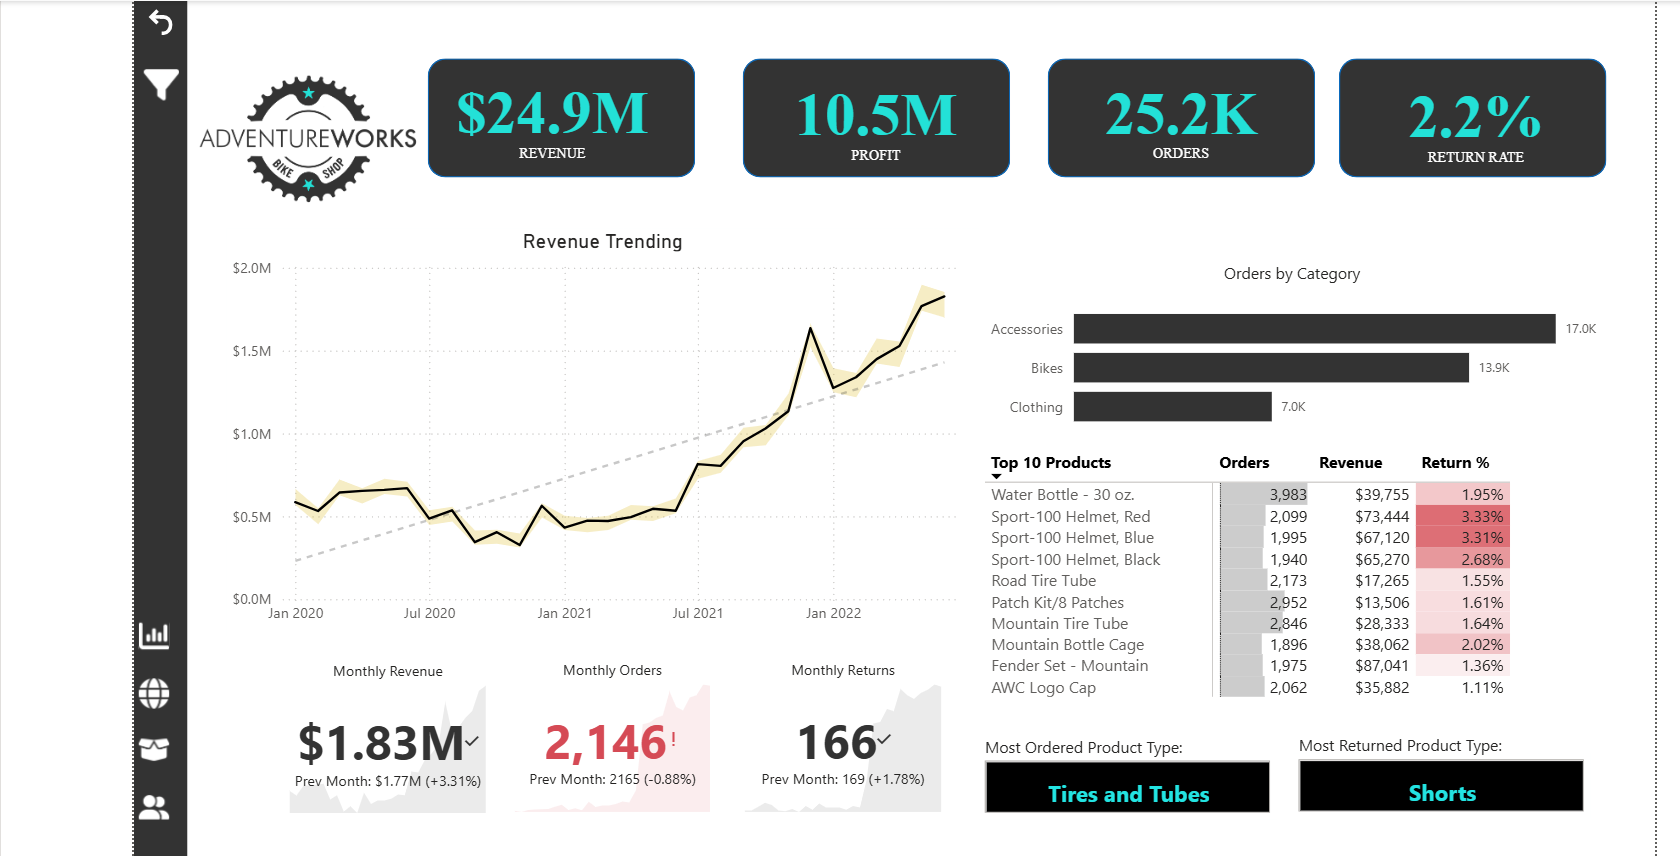

The page's visual inventory and layout, read from the dashboard file:
{"tool":"powerbi","page":{"name":"Exec Dashboard","canvas":[1280,720],"ordinal":0},"visuals":[{"type":"image","title":"AW Logo","box":[30,0,233.3,232.2],"z":0},{"type":"shape","box":[247,48.9,225,100],"z":0,"group":"g1"},{"type":"group","id":"g1","title":"KPI Backgrounds","box":[247,48.9,991.2,100.5],"z":0,"group":"g3"},{"type":"card","fields":{"Values":["Measure Table.Return Rate"]},"box":[1013.3,51.2,231.1,98.9],"z":0,"group":"g2"},{"type":"actionButton","box":[0,517.3,56.8,33.6],"z":0,"group":"g4"},{"type":"shape","title":"Left Nav Background","box":[0,0,45,720],"z":1000},{"type":"group","id":"g2","title":"KPI Values","box":[236.4,45.6,1008,104.4],"z":1000,"group":"g3"},{"type":"card","fields":{"Values":["Measure Table.Total Revenue"]},"box":[236.4,46.8,231.1,100],"z":1000,"group":"g2"},{"type":"shape","box":[512,48.9,225,100],"z":1000,"group":"g1"},{"type":"actionButton","box":[0,565.3,56.8,33.6],"z":1000,"group":"g4"},{"type":"group","id":"g3","title":"KPIs","box":[236.4,45.6,1008,104.4],"z":2000},{"type":"card","fields":{"Values":["Measure Table.Total Profit"]},"box":[508.9,46.7,231.1,103.3],"z":2000,"group":"g2"},{"type":"shape","box":[768.2,48.9,225,100],"z":2000,"group":"g1"},{"type":"actionButton","box":[0,613.3,56.8,33.6],"z":2000,"group":"g4"},{"type":"card","fields":{"Values":["Measure Table.Total Orders"]},"box":[765.5,45.6,231.1,103.3],"z":3000,"group":"g2"},{"type":"shape","box":[1013.2,49.4,225,100],"z":3000,"group":"g1"},{"type":"lineChart","title":"Revenue Trending","fields":{"Category":["Calendar Lookup.Start of Month"],"Y":["Measure Table.Total Revenue"]},"box":[78,191,633,342],"z":3000},{"type":"actionButton","box":[0,661.3,56.8,33.6],"z":3000,"group":"g4"},{"type":"kpi","title":"Monthly Revenue","fields":{"Goal":["Measure Table.Previous Month Revenue"],"Indicator":["Measure Table.Total Revenue"],"TrendLine":["Calendar Lookup.Start of Month"]},"box":[126,555,175,133],"z":4000},{"type":"kpi","title":"Monthly Orders","fields":{"Goal":["Measure Table.Previous Month Orders"],"Indicator":["Measure Table.Total Orders"],"TrendLine":["Calendar Lookup.Start of Month"]},"box":[315.7,554.5,174.2,133.2],"z":5000},{"type":"kpi","title":"Monthly Returns","fields":{"Goal":["Measure Table.Previous Month Returns"],"Indicator":["Measure Table.Total Returns"],"TrendLine":["Calendar Lookup.Start of Month"]},"box":[508.4,554.5,175.3,133.2],"z":6000},{"type":"clusteredBarChart","title":"Orders by Category","fields":{"Category":["Product Categories Lookup.CategoryName"],"Y":["Measure Table.Total Orders"]},"box":[710.8,219.7,526.8,153.5],"z":7000},{"type":"pivotTable","fields":{"Rows":["Product Lookup.ProductName"],"Values":["Measure Table.Total Orders","Measure Table.Total Revenue","Measure Table.Return Rate"]},"box":[710.8,373.2,501.5,226.1],"z":8000},{"type":"cardVisual","fields":{"Data":["Min(Product Subcategories Lookup.SubcategoryName)"]},"box":[711.1,634.3,250.3,54],"z":9000},{"type":"textbox","box":[711.1,613,213.3,41.2],"z":10000},{"type":"cardVisual","fields":{"Data":["Min(Product Subcategories Lookup.SubcategoryName)"]},"box":[974.8,632.9,250.3,54],"z":11000},{"type":"textbox","box":[974.8,611.6,213.3,41.2],"z":12000},{"type":"actionButton","box":[7.4,0,30.5,35.7],"z":13000},{"type":"group","id":"g4","title":"Navigation Buttons","box":[0,517.3,56.8,177.7],"z":14000},{"type":"actionButton","box":[4.2,51.5,37.9,37.9],"z":15000}]}

Visuals, with their boxes on the page's 1280x720 design canvas (x1, y1, x2, y2). These are canvas units, not pixel positions in the 1680x856 screenshot, which may show the page scaled, cropped or inside an application window:
"AW Logo" image: bbox(30, 0, 263, 232)
shape: bbox(247, 49, 472, 149)
"KPI Backgrounds" group: bbox(247, 49, 1238, 149)
card - Measure Table.Return Rate: bbox(1013, 51, 1244, 150)
actionButton: bbox(0, 517, 57, 551)
"Left Nav Background" shape: bbox(0, 0, 45, 720)
"KPI Values" group: bbox(236, 46, 1244, 150)
card - Measure Table.Total Revenue: bbox(236, 47, 468, 147)
shape: bbox(512, 49, 737, 149)
actionButton: bbox(0, 565, 57, 599)
"KPIs" group: bbox(236, 46, 1244, 150)
card - Measure Table.Total Profit: bbox(509, 47, 740, 150)
shape: bbox(768, 49, 993, 149)
actionButton: bbox(0, 613, 57, 647)
card - Measure Table.Total Orders: bbox(766, 46, 997, 149)
shape: bbox(1013, 49, 1238, 149)
"Revenue Trending" lineChart: bbox(78, 191, 711, 533)
actionButton: bbox(0, 661, 57, 695)
"Monthly Revenue" kpi: bbox(126, 555, 301, 688)
"Monthly Orders" kpi: bbox(316, 554, 490, 688)
"Monthly Returns" kpi: bbox(508, 554, 684, 688)
"Orders by Category" clusteredBarChart: bbox(711, 220, 1238, 373)
pivotTable - Product Lookup.ProductName x Measure Table.Total Orders: bbox(711, 373, 1212, 599)
cardVisual - Min(Product Subcategories Lookup.SubcategoryName): bbox(711, 634, 961, 688)
textbox: bbox(711, 613, 924, 654)
cardVisual - Min(Product Subcategories Lookup.SubcategoryName): bbox(975, 633, 1225, 687)
textbox: bbox(975, 612, 1188, 653)
actionButton: bbox(7, 0, 38, 36)
"Navigation Buttons" group: bbox(0, 517, 57, 695)
actionButton: bbox(4, 52, 42, 89)
